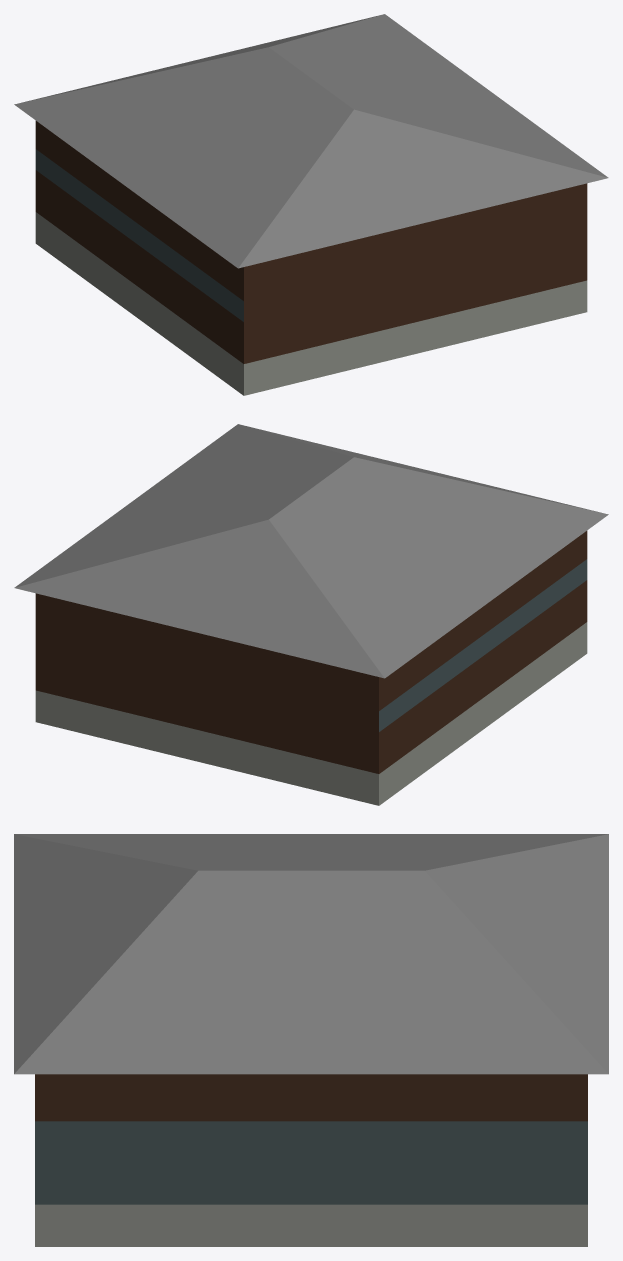
File: far.fbx
The picture shows the model from 3 angles, top to bottom: view 1: azimuth 30°, elevation 25°; view 2: azimuth 150°, elevation 25°; view 3: azimuth 270°, elevation 25°; orthographic projection. The views are drawn at different scales.
Parts seen in each view (by area): view 1: a2000/0/far; view 2: a2000/0/far; view 3: a2000/0/far.
Boxes of the visible parts, x1,y1,x2,y2 form: a2000/0/far: [14, 14, 608, 395]; a2000/0/far: [14, 424, 608, 805]; a2000/0/far: [14, 834, 608, 1246].
Size of the model in its own units: 10.8 by 5.55 by 11.3.
